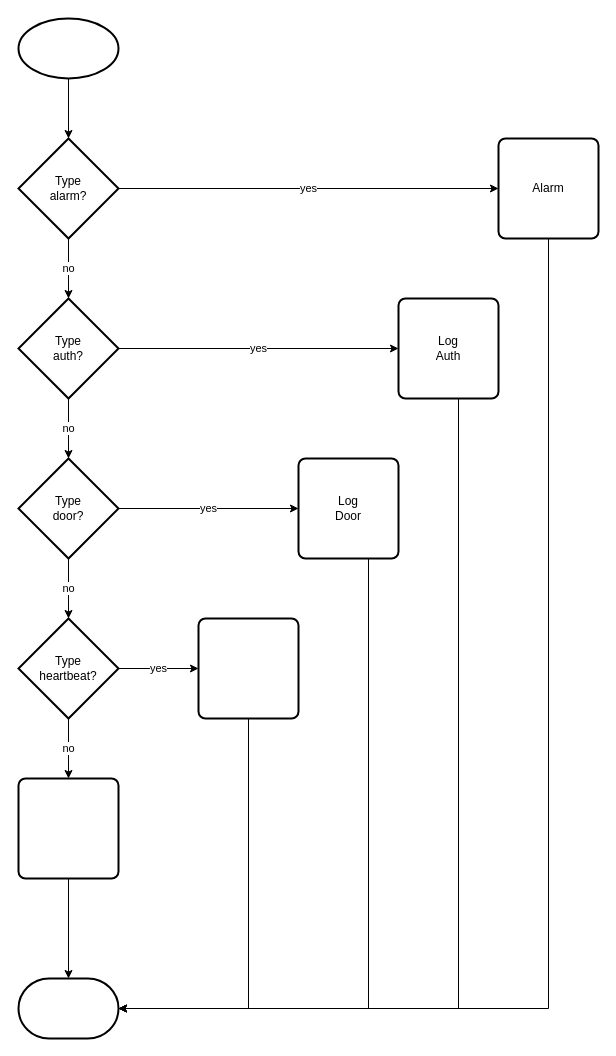
This 616x1056 diagram has some shape labels left out. The box of each missing label's shape, as (x1, y1, x2, y2) in pixels:
End: (17, 977, 119, 1039)
Log invalid: (17, 777, 119, 879)
process Heartbeat: (197, 617, 299, 719)
Start: (17, 17, 119, 79)
